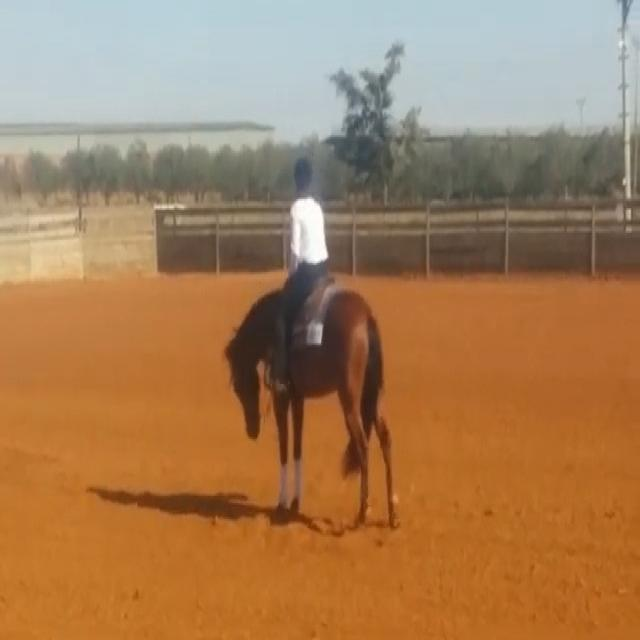horse: (223, 276, 401, 532)
